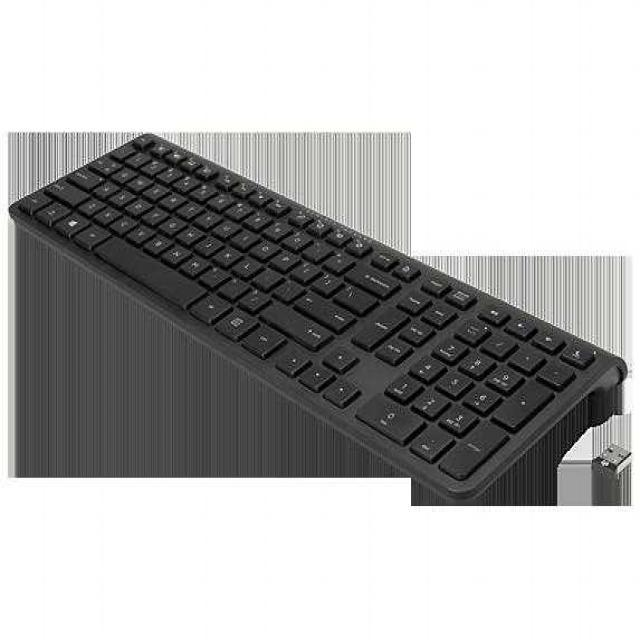keyboard: (6, 132, 615, 495)
